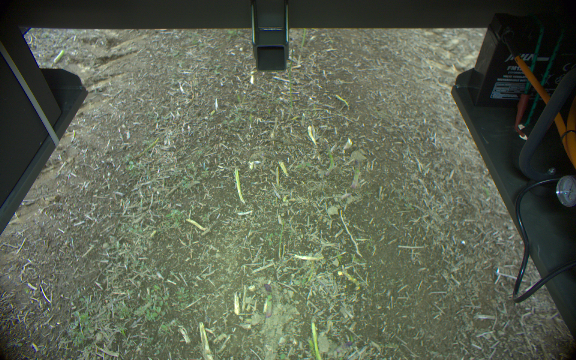aspa: (230, 164, 247, 208), (322, 136, 338, 178), (308, 321, 323, 360), (261, 281, 275, 320), (348, 159, 362, 189)
